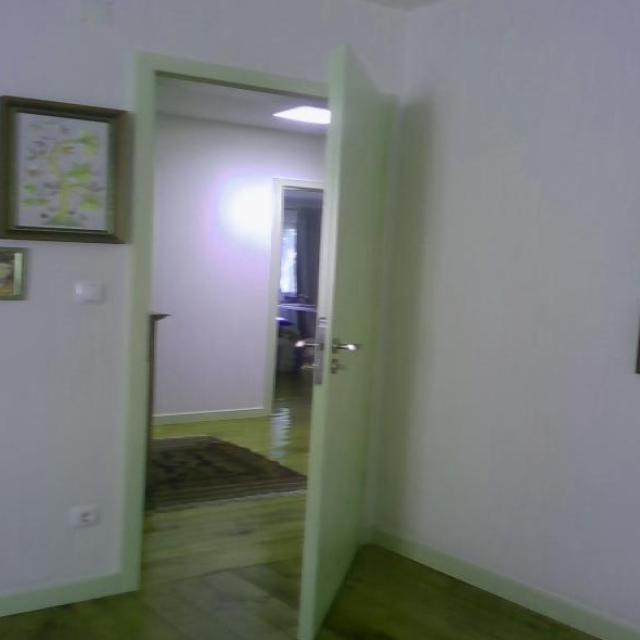door: (286, 43, 400, 640)
